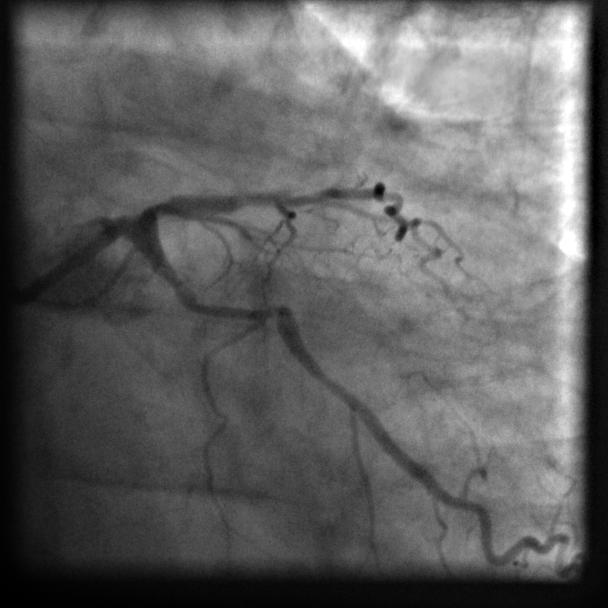Stenosis: (198, 294, 278, 325)
